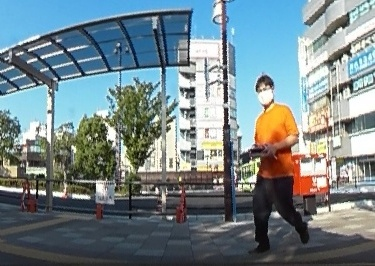person: (248, 74, 309, 250)
